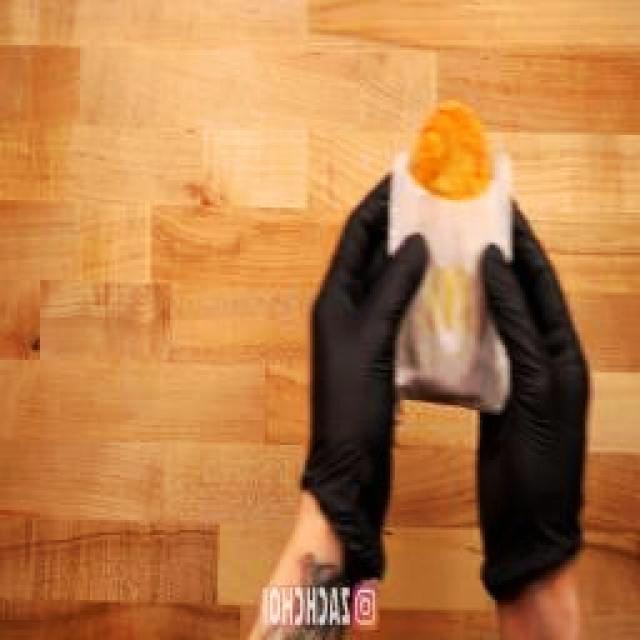Hashbrown: (410, 103, 493, 198)
